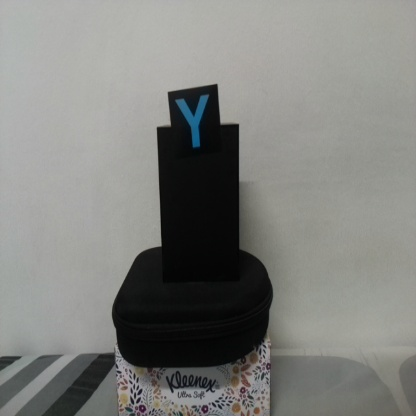id_14: (169, 91, 220, 154)
